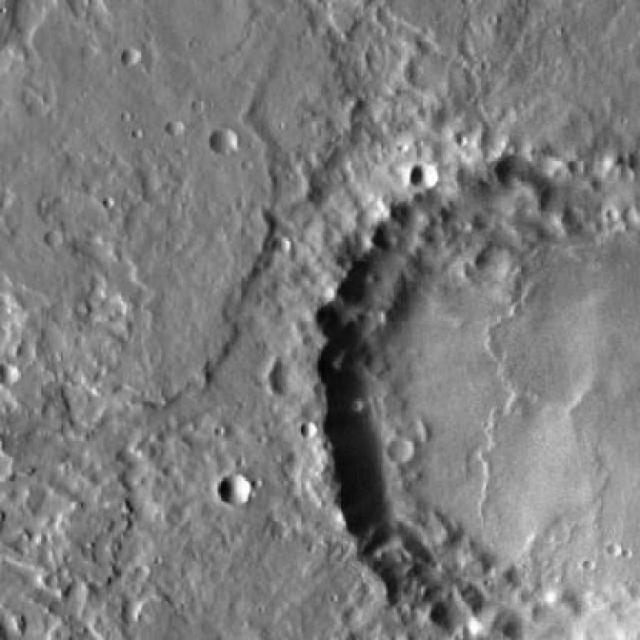crater: (321, 151, 640, 640), (270, 360, 307, 395), (222, 474, 256, 506), (412, 165, 442, 193), (212, 128, 240, 154), (391, 440, 417, 465), (0, 362, 25, 387), (123, 49, 143, 68), (164, 124, 182, 141), (296, 429, 313, 446)
